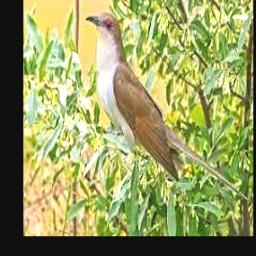Cuckoo: (84, 12, 247, 200)
